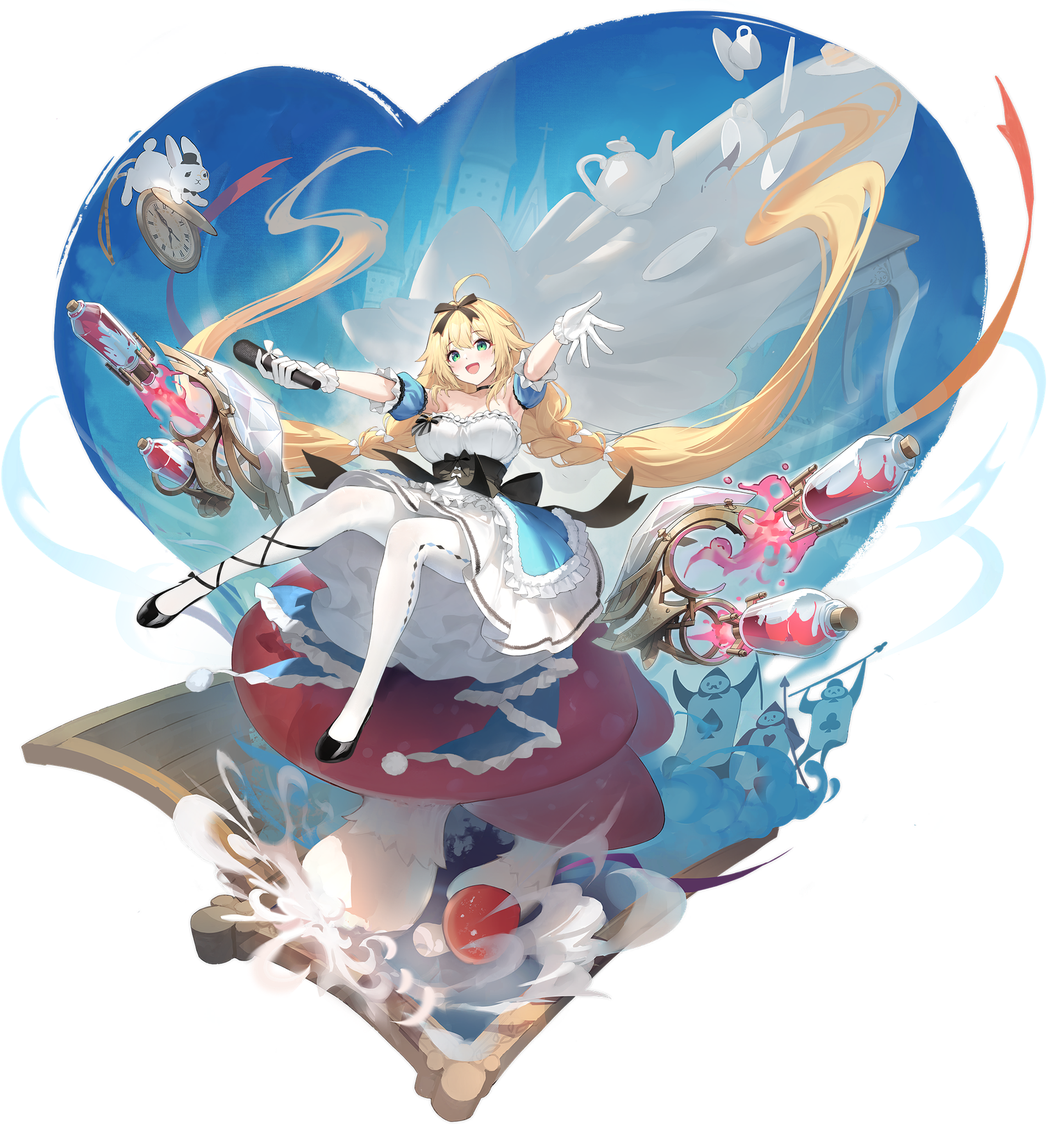person: (95, 198, 723, 812)
